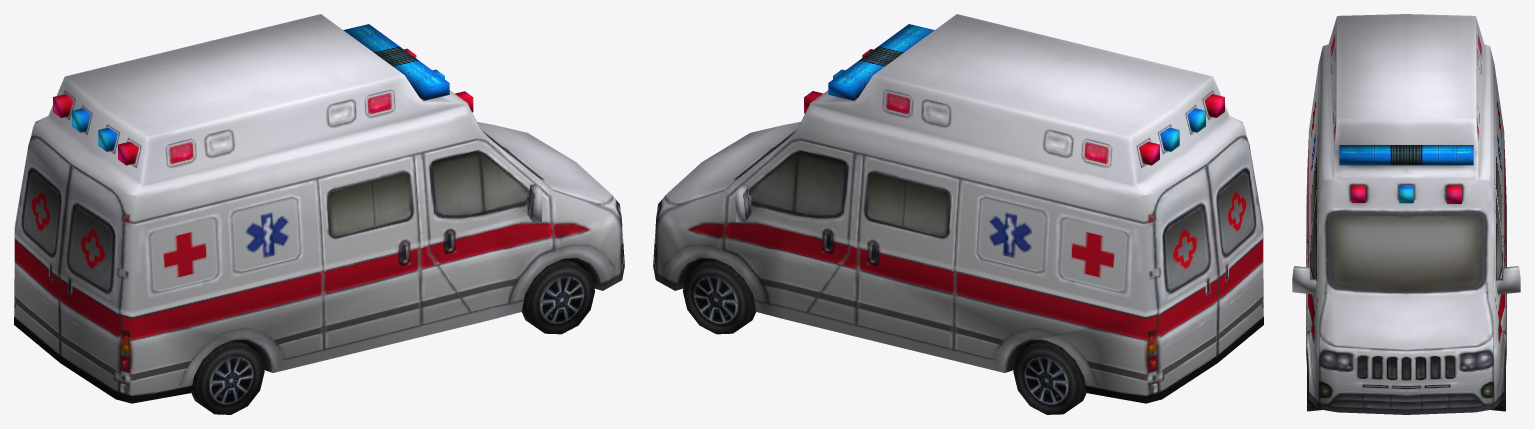
File: car_01.FBX
The picture shows the model from 3 angles, left to right: view 1: azimuth 30°, elevation 25°; view 2: azimuth 150°, elevation 25°; view 3: azimuth 270°, elevation 25°; orthographic projection. The views are drawn at different scales.
Visible parts, largest first — view 1: car_01; view 2: car_01; view 3: car_01.
Boxes of the visible parts, x1,y1,x2,y2 form: car_01: (14,14,624,414); car_01: (653,14,1263,414); car_01: (1292,14,1520,414).
Size of the model in its own units: 17.4 by 8.77 by 7.81.
Materials: 1 (1 with a texture image).
